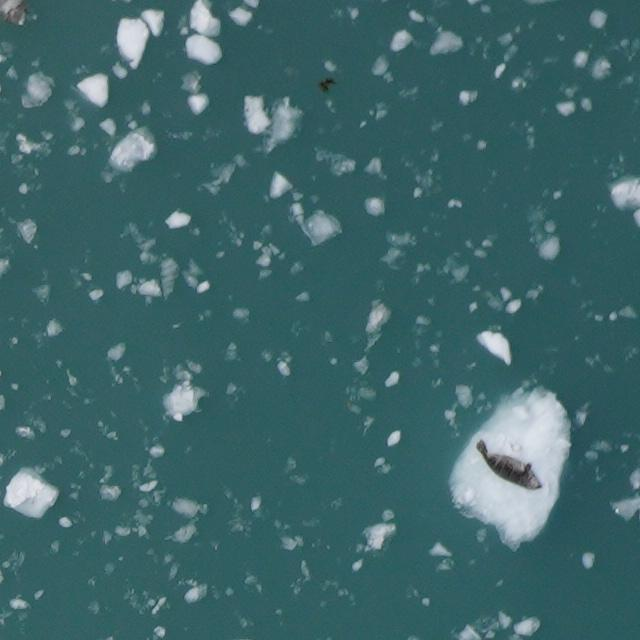seal: (468, 437, 549, 496)
